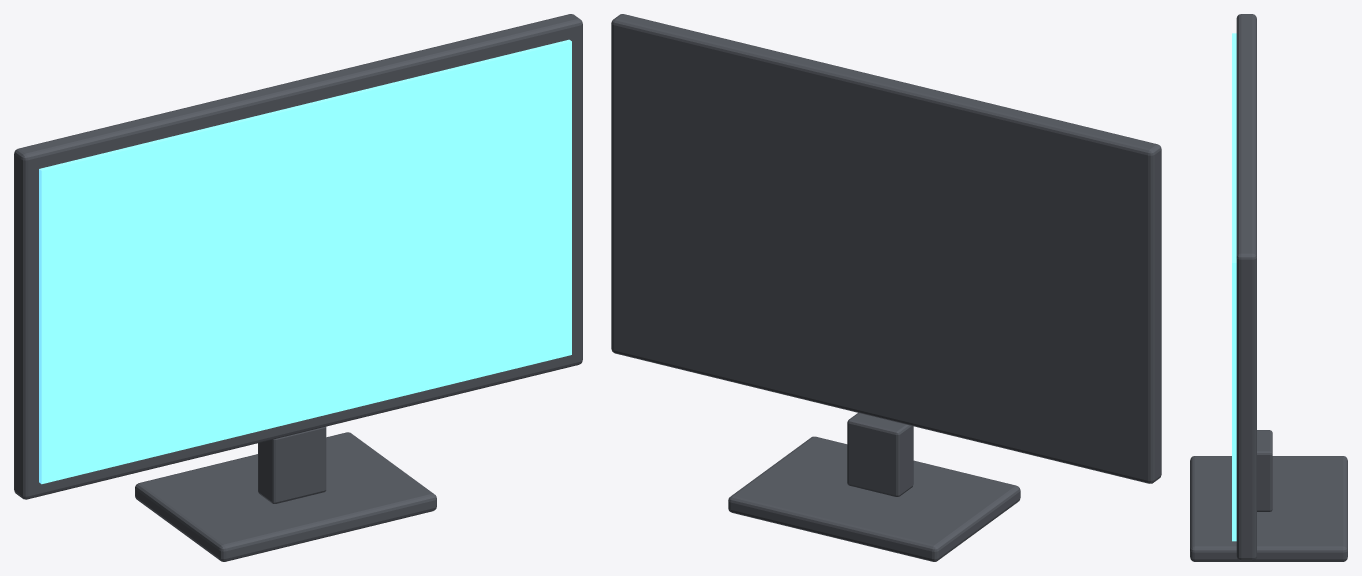
The model's file is monitor.glb.
3 views of the same model, side by side, from view 1: azimuth 30°, elevation 25°; view 2: azimuth 150°, elevation 25°; view 3: azimuth 270°, elevation 25° (orthographic). The views are drawn at different scales.
Parts seen in each view (by area): view 1: Monitor; view 2: Monitor; view 3: Monitor.
Boxes of the visible parts, x1,y1,x2,y2 form: Monitor: (14,14,582,561); Monitor: (611,14,1161,561); Monitor: (1190,14,1347,561).
Bounding box in the file's own units: 0.744 × 0.546 × 0.204.
